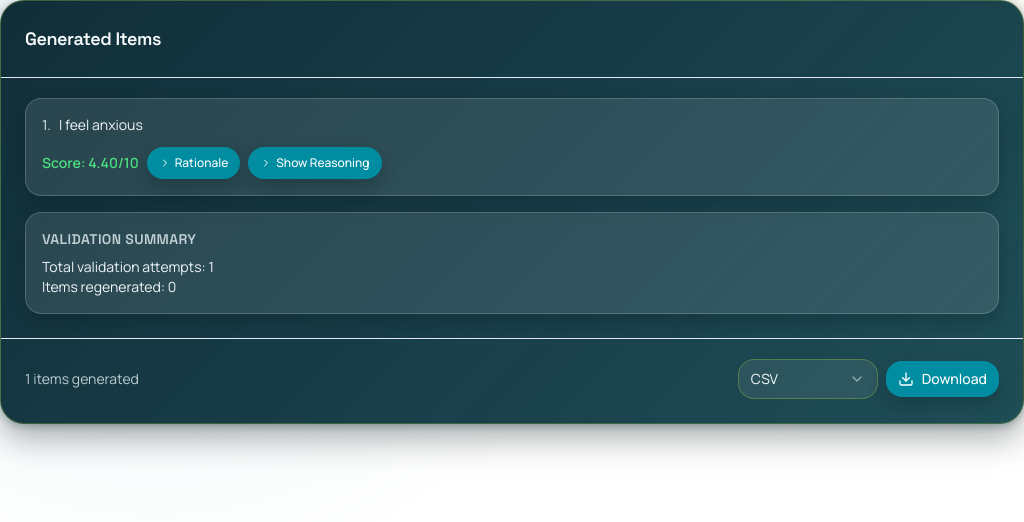
Test: GeneratedItemsTable export UI › renders format selector with 3 options (CSV, JSON, Markdown)
This screenshot has width=1024, height=522.
Expected: the button "Download" is shown, [886,361,999,397]
# Click the last select trigger (format selector)
Click the dropdown at (808, 379), box [738,359,878,399]
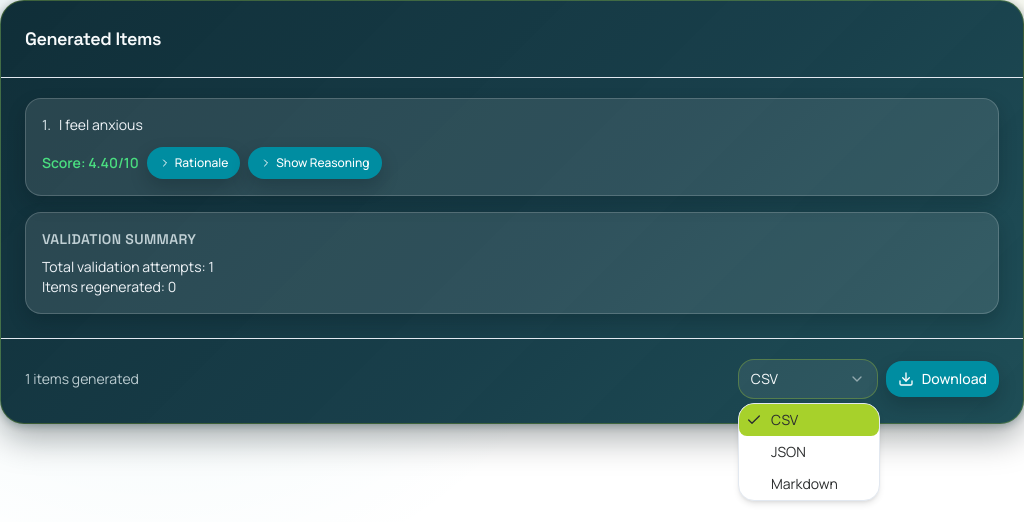
Expected: the text "CSV" in the row of "items generated" is shown, [751,369,778,388]
Result: the text "JSON" is shown at [771,442,806,462]
Result: the text "Markdown" is shown at [771,474,838,494]
